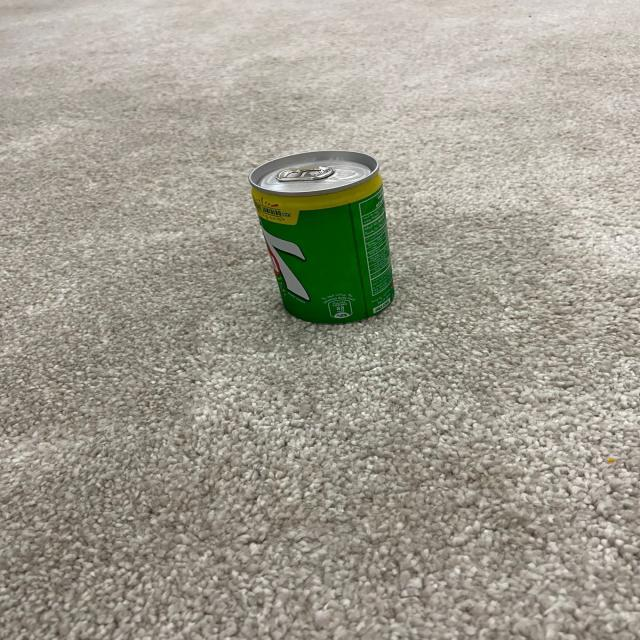can: (246, 146, 396, 326)
